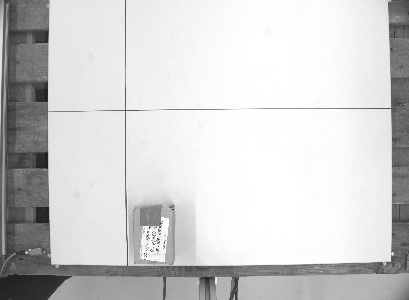b6: (129, 200, 178, 268)
